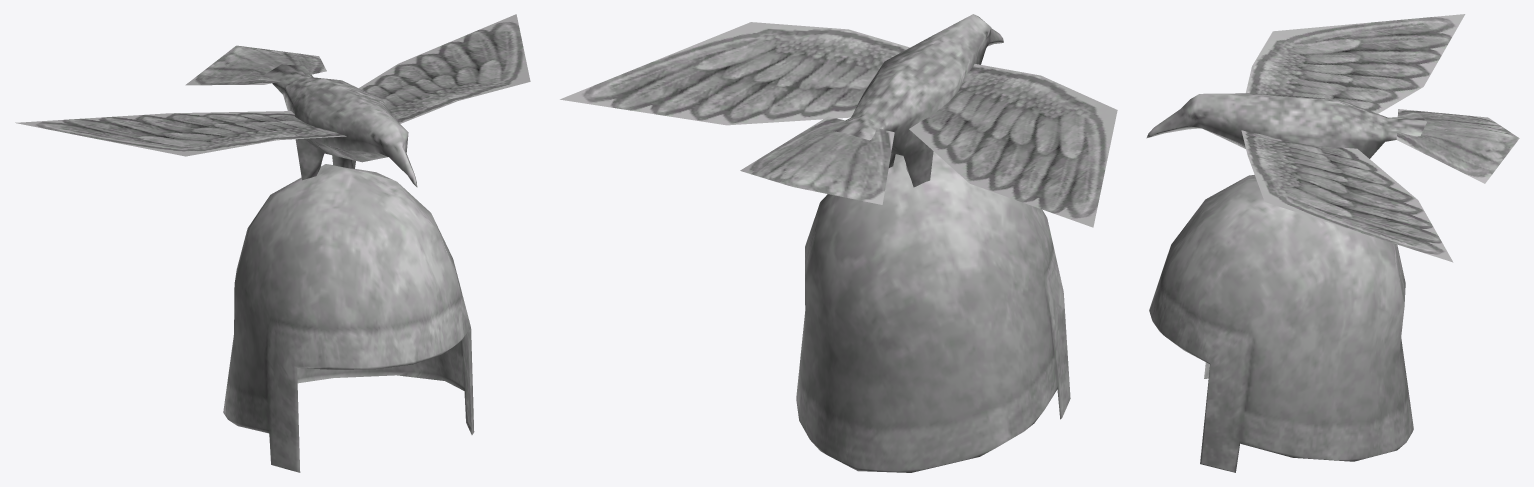
The model's file is rider-helmet-slice-heavycavalry.glb.
3 renders of one model, left to right at view 1: azimuth 30°, elevation 25°; view 2: azimuth 150°, elevation 25°; view 3: azimuth 270°, elevation 25°, orthographic. The views are drawn at different scales.
Size of the model in its own units: 0.5965 by 0.3917 by 0.3908.
Materials: 1 (1 with a texture image).
